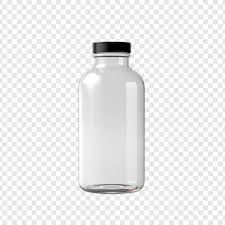bottle: (74, 38, 148, 195)
